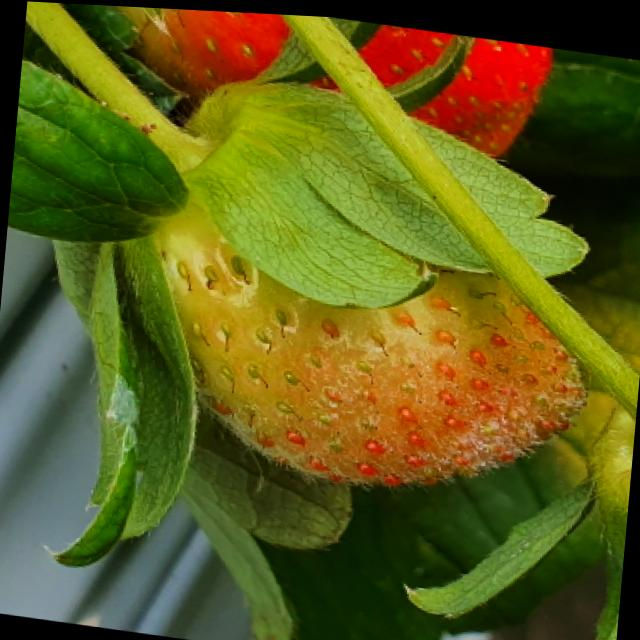Powdery Mildew Fruit: (246, 266, 595, 488)
